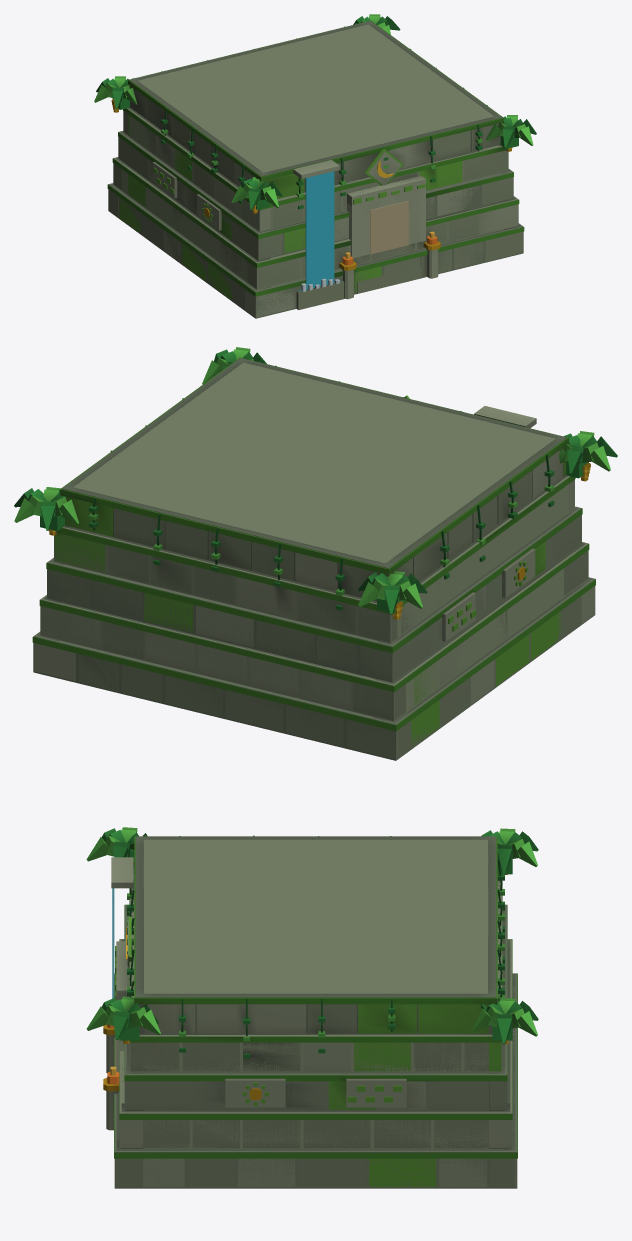
The model's file is GoldenBananaFloor.fbx.
The picture shows the model from 3 angles, top to bottom: view 1: azimuth 30°, elevation 25°; view 2: azimuth 150°, elevation 25°; view 3: azimuth 270°, elevation 25°; orthographic projection. The views are drawn at different scales.
Parts seen in each view (by area): view 1: GB_S_All, GB_F_Rings, GB_F_Smooth, GB_F_Props, GB_F_Quiet; view 2: GB_S_All, GB_F_Rings, GB_F_Smooth, GB_F_Quiet, GB_F_Props; view 3: GB_S_All, GB_F_Rings, GB_F_Smooth, GB_F_Quiet, GB_F_Props.
Boxes of the visible parts, x1,y1,x2,y2 form: GB_S_All: [108, 24, 523, 318]; GB_F_Rings: [108, 85, 522, 317]; GB_F_Smooth: [107, 21, 532, 299]; GB_F_Props: [94, 14, 536, 309]; GB_F_Quiet: [108, 20, 523, 292]; GB_S_All: [33, 362, 595, 760]; GB_F_Rings: [34, 446, 595, 758]; GB_F_Smooth: [32, 358, 610, 758]; GB_F_Quiet: [33, 357, 595, 725]; GB_F_Props: [14, 347, 617, 614]; GB_S_All: [112, 839, 517, 1188]; GB_F_Rings: [115, 941, 516, 1187]; GB_F_Smooth: [106, 835, 537, 1187]; GB_F_Quiet: [114, 836, 517, 1152]; GB_F_Props: [86, 827, 538, 1130].
Bounding box in the file's own units: 60 × 20 × 60.
